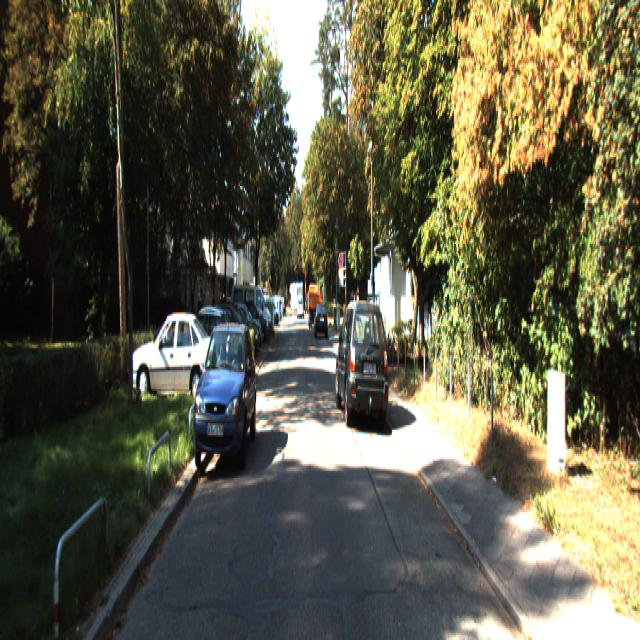Car: (194, 320, 258, 472), (129, 309, 219, 408), (334, 291, 390, 429), (232, 283, 274, 337), (308, 284, 324, 330)
